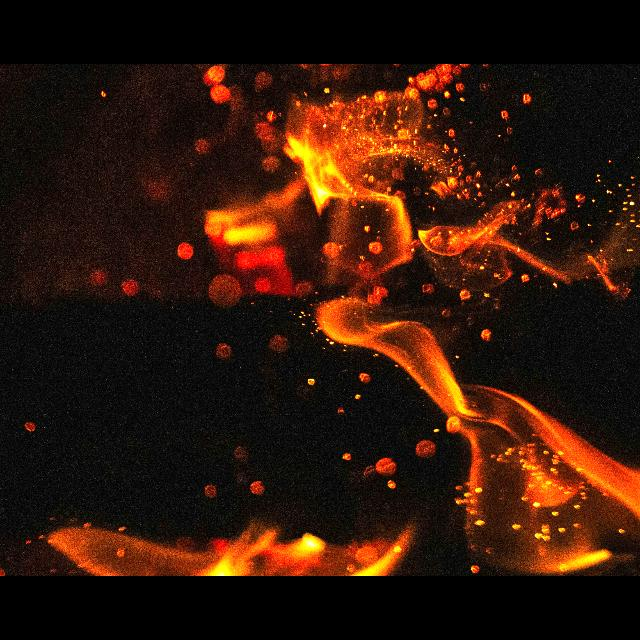fire: (202, 64, 640, 576), (60, 530, 280, 576)
